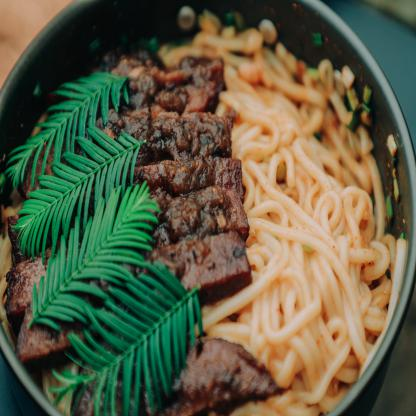Carne: (172, 342, 262, 413), (161, 190, 246, 241), (175, 231, 246, 286), (136, 119, 224, 161), (142, 160, 239, 192)
